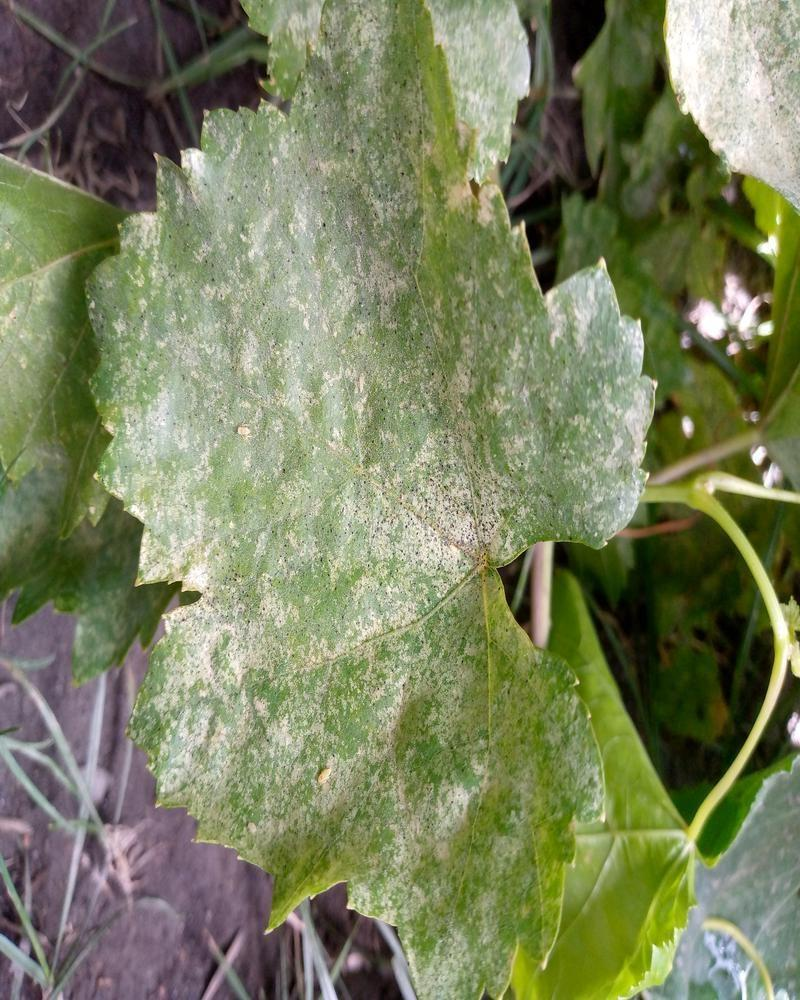Powdery-Mildew: (256, 396, 537, 652), (109, 320, 330, 598), (420, 700, 611, 999), (143, 608, 370, 847), (285, 0, 473, 164), (225, 157, 386, 334), (549, 285, 665, 530), (168, 154, 231, 217), (367, 335, 430, 398), (368, 655, 431, 718), (420, 768, 483, 831), (362, 850, 425, 913)
